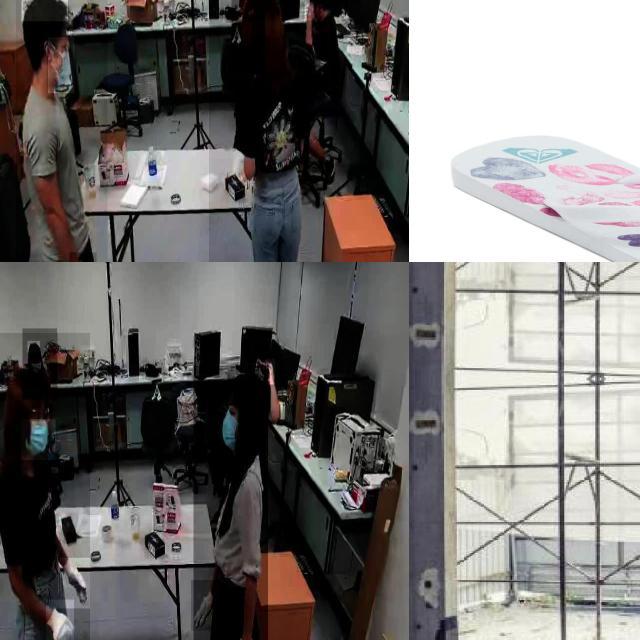Sandals: (448, 133, 640, 262)
face_mask: (48, 37, 74, 93), (21, 419, 55, 460), (218, 406, 243, 454), (26, 354, 44, 378)
hand_glove: (58, 558, 90, 608), (191, 580, 216, 632), (45, 599, 74, 640)
hand_noglove: (266, 359, 276, 385), (304, 2, 314, 21), (240, 4, 248, 18)
head_nohelmet: (5, 368, 49, 398), (21, 0, 68, 22), (228, 370, 268, 394), (250, 0, 281, 23), (255, 346, 271, 360), (28, 341, 40, 353)
person: (208, 0, 325, 262), (0, 332, 90, 640), (16, 0, 108, 262), (193, 365, 268, 640), (296, 0, 347, 176), (22, 328, 58, 399), (231, 0, 264, 74)
